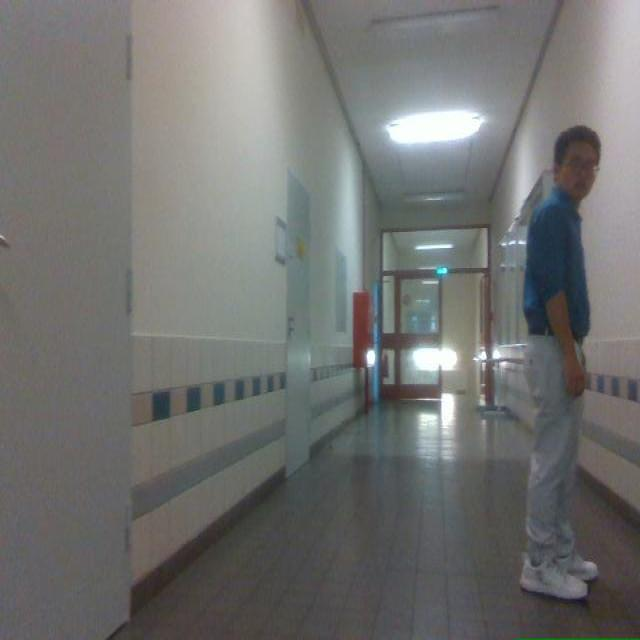humans: (520, 126, 600, 598)
